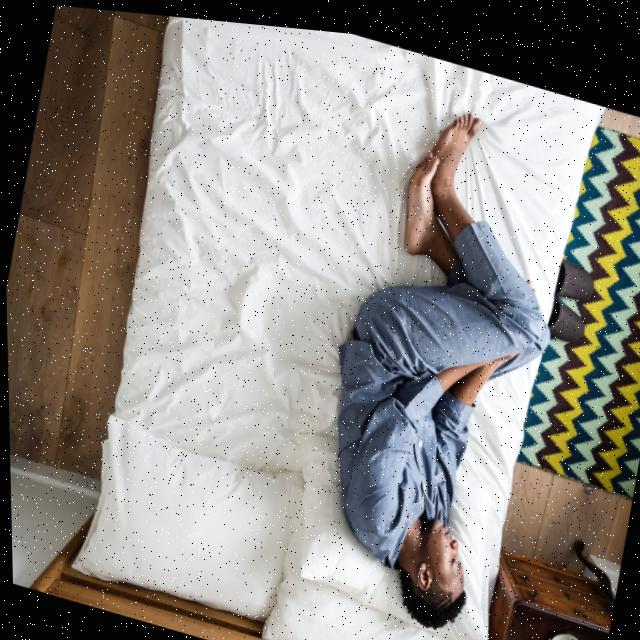sleeping-person: (284, 70, 590, 640)
